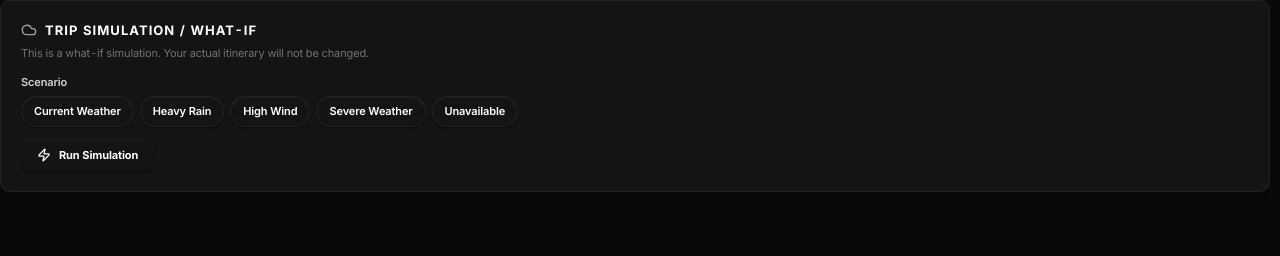
Test: SimulationSection › shows error state on API failure
Click the button "Run Simulation" at (88, 155), box [21,139,154,171]
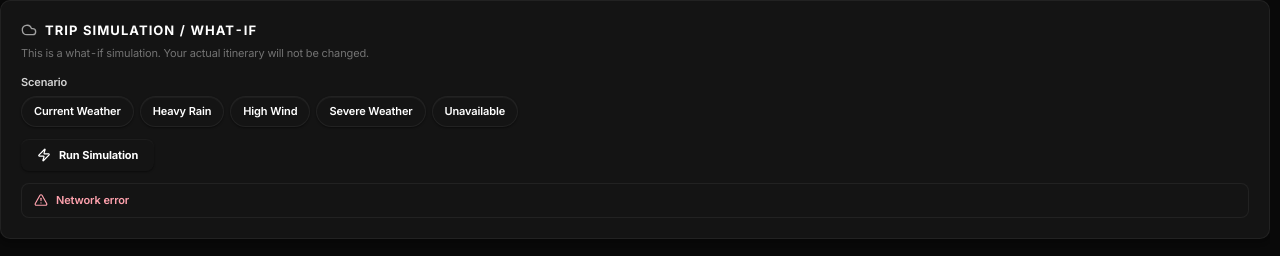
Now the text "Network error" is shown, box [56,192,129,209]
